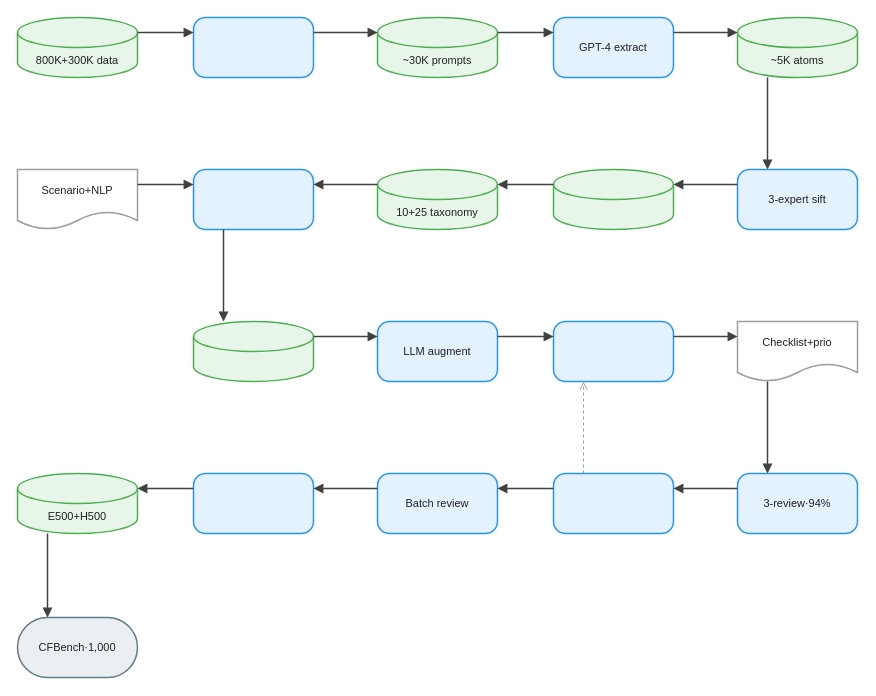
Some shapes in this 876 by 696 pixel diagram are drawn without their labels. Each missing label, with the centre of its shape:
"1K key atoms" belongs at (x=613, y=199).
"2K candidates" belongs at (x=253, y=351).
"9 annotators" belongs at (x=613, y=351).
"Expert revise" belongs at (x=613, y=503).
"Expert+10 vote" belongs at (x=253, y=503).
"Filter·cluster" belongs at (x=253, y=47).
"LLM screen" belongs at (x=253, y=199).
